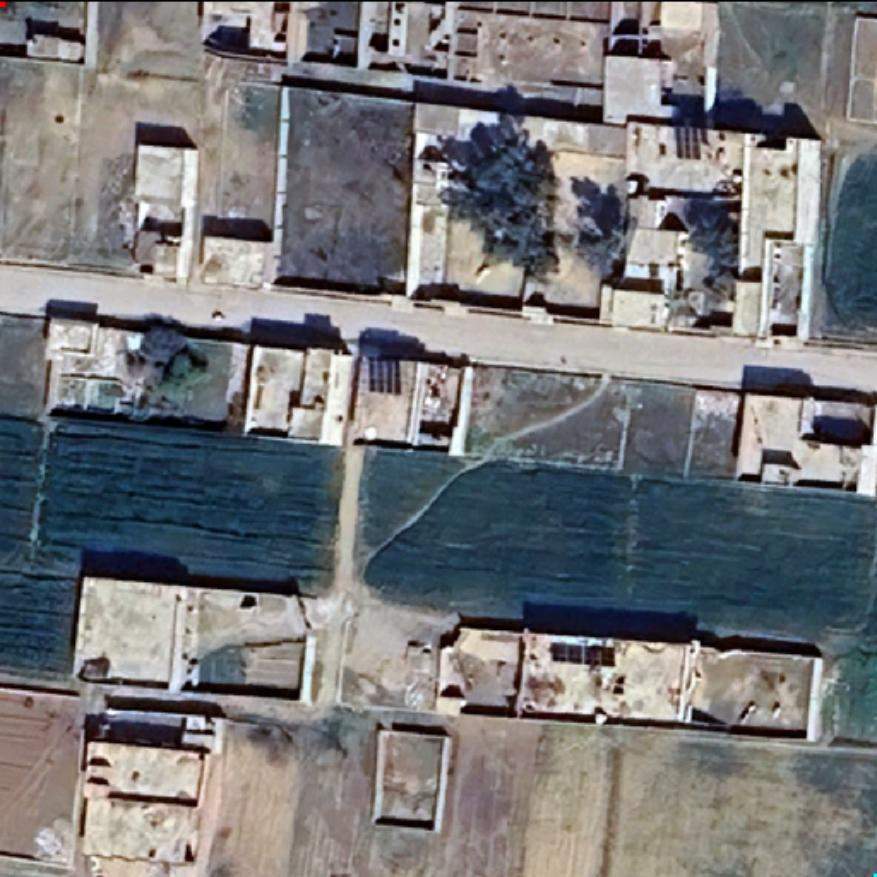Solarpanel: (545, 637, 619, 671), (358, 351, 406, 399), (675, 123, 706, 161)
